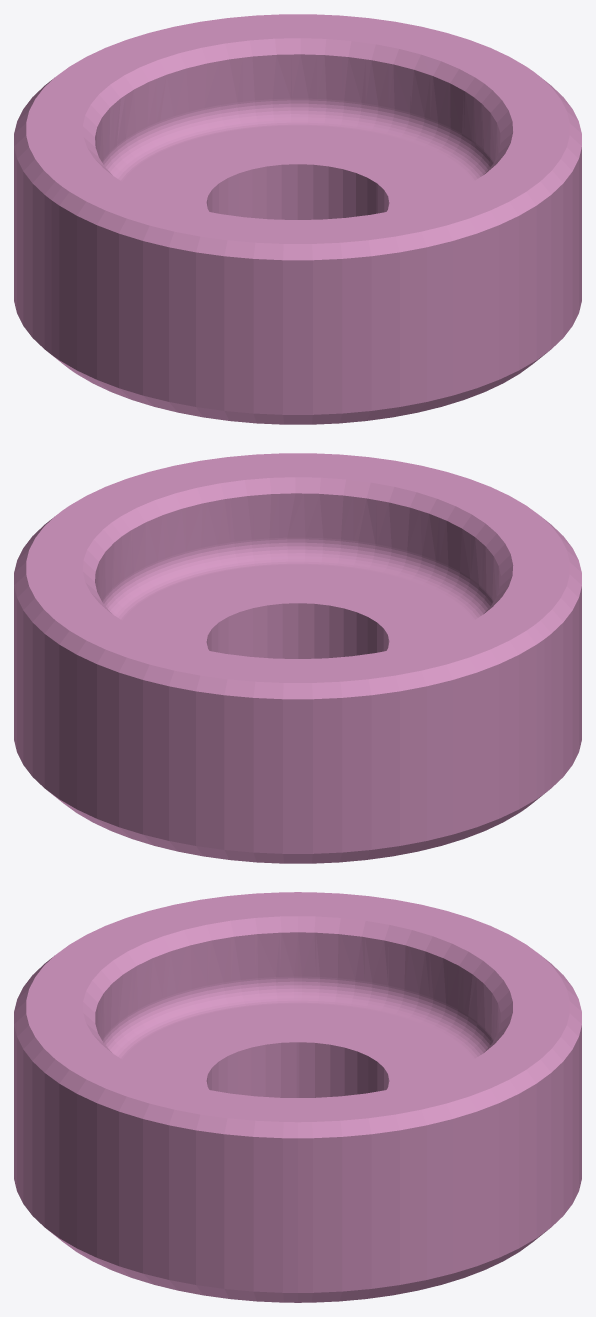
Rendered from End_Cap_.dae.
3 views of the same model, one above another, from view 1: azimuth 30°, elevation 25°; view 2: azimuth 150°, elevation 25°; view 3: azimuth 270°, elevation 25° (orthographic).
Parts seen in each view (by area): view 1: End_Cap; view 2: End_Cap; view 3: End_Cap.
Boxes of the visible parts, x1,y1,x2,y2 form: End_Cap: (14,14,581,424); End_Cap: (14,453,581,863); End_Cap: (14,892,581,1302).
Bounding box in the file's own units: 0.014 × 0.014 × 0.005.
